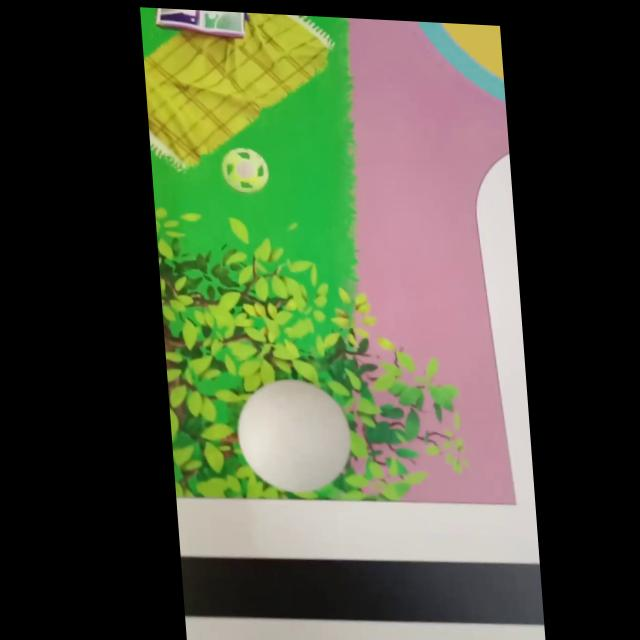white ball: (232, 375, 355, 496)
